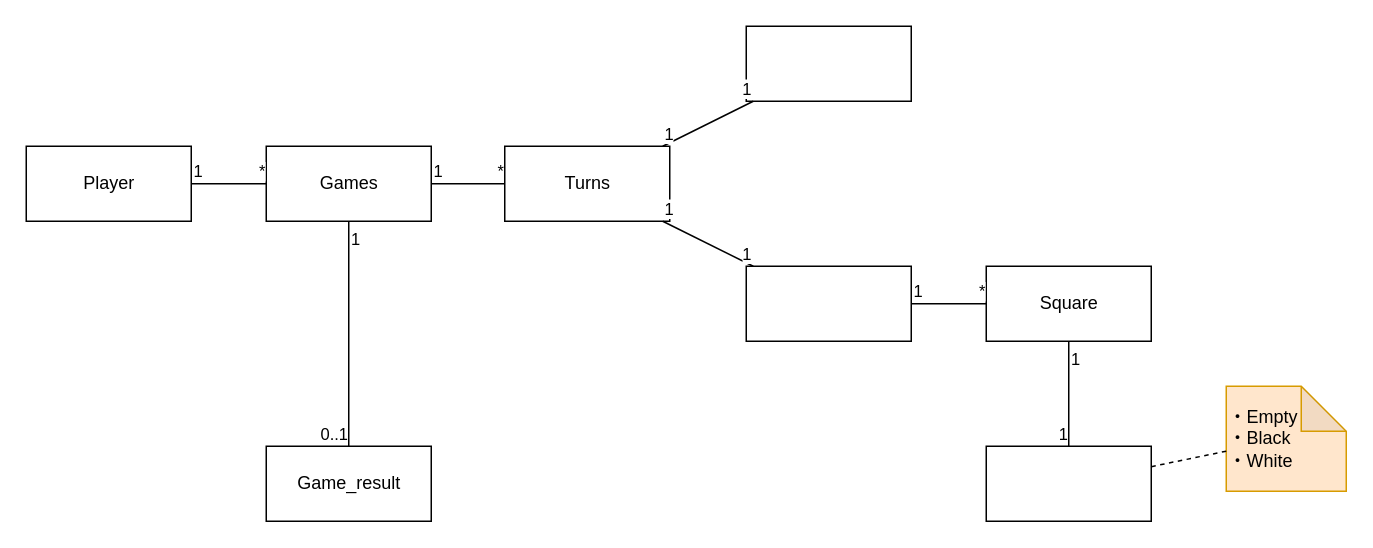
The diagram is 1373 pixels wide and 548 high, and some of its shapes have lost their labels. The shapes that lost their labels are listed below. From the top down, each one's box as (x1, y1, x2, y2) in pixels, then its label:
(745, 25, 911, 101): Move
(745, 265, 911, 341): Board
(985, 445, 1151, 521): Disc
